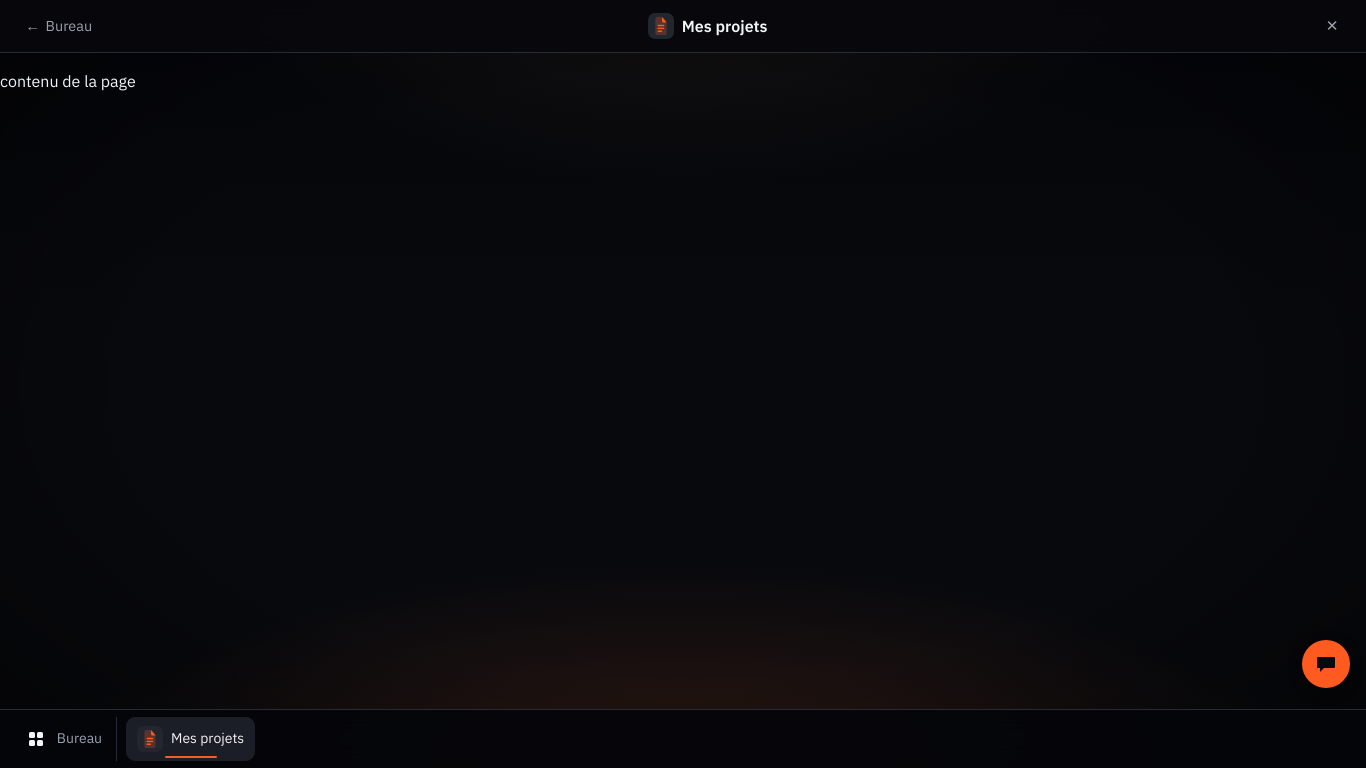
Test: Systeme › connecté › ouvre le panneau de chat au clic sur l’icône, et referme l’icône
Click the button named "Discuter avec IGINI": coordinates (1326, 664) [1302, 640, 1350, 688]
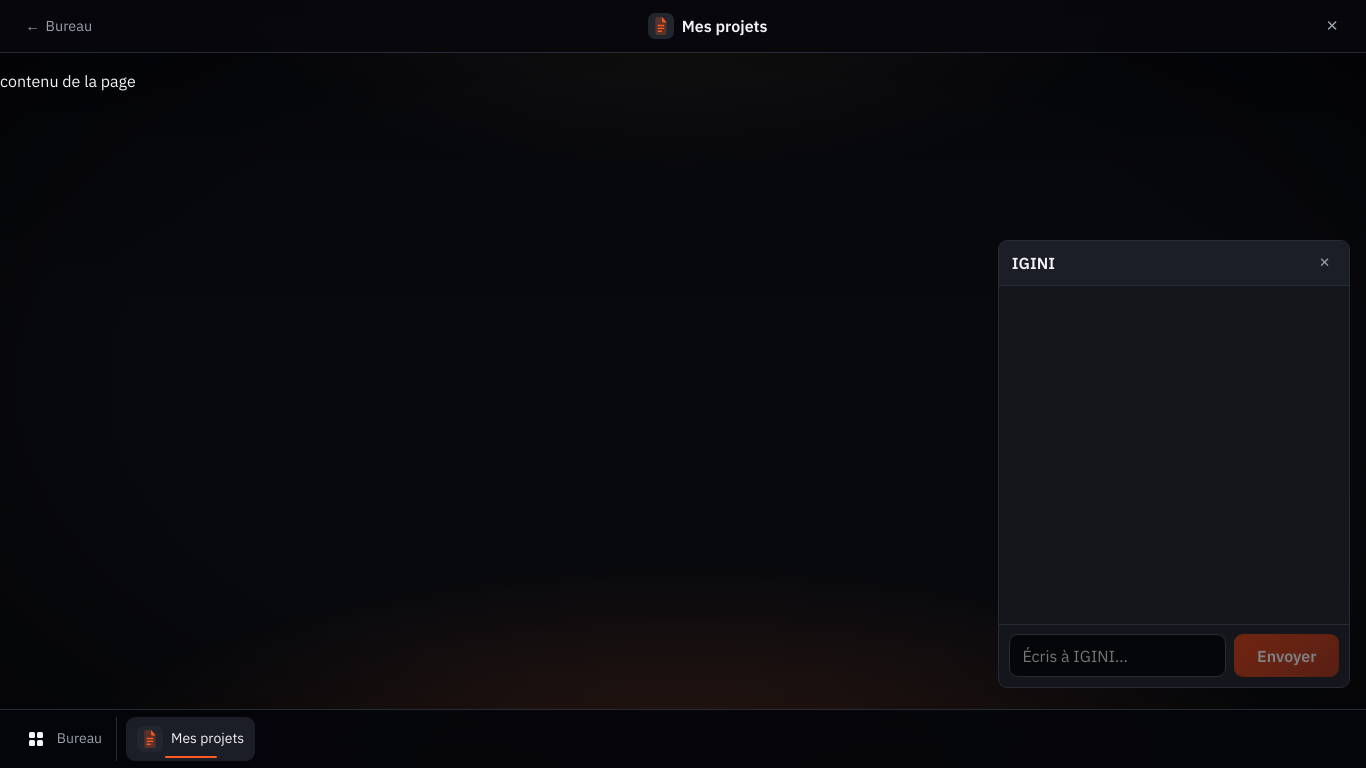
Now the dialog named "Discuter avec IGINI" is shown, box [998, 240, 1350, 688]
